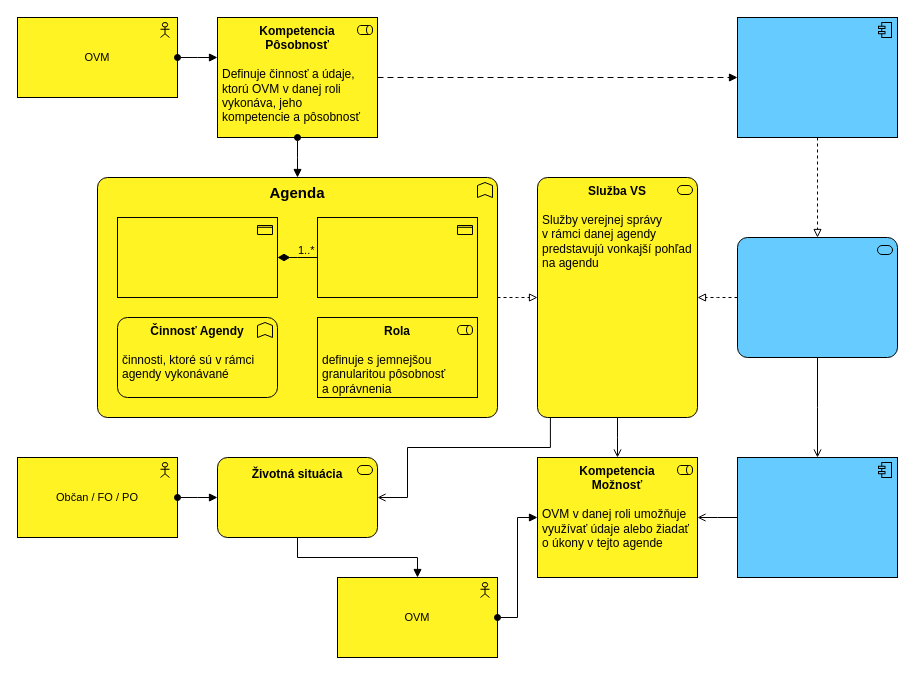
Some shapes in this 915 by 675 pixel diagram are drawn without their labels. Each missing label, with the centre of its shape:
Aplikačná služba realizuje prístup k údajom a službám agendy: the point at 817,297
IS VS IS ktorý OVM využíva na získavanie údajov a volanie služieb cudzej agendy: the point at 817,517
IS VS IS v ktorom OVM spravuje údaje, vykonáva svoju pôsobnosť v danej agende: the point at 817,77
Objekt evidencie Aké objekty sa evidujú v agende, napríklad auto: the point at 197,257
Údaj Aké údaje sa o objekte evidujú v agende, napríklad typ, rok výroby, ...: the point at 397,257
